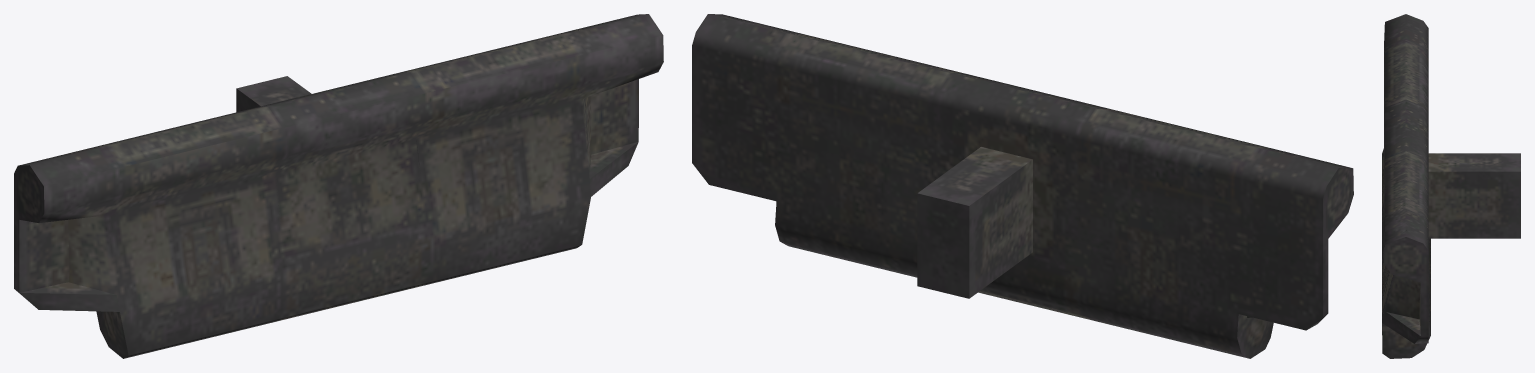
3 views of the same model, side by side, from view 1: azimuth 30°, elevation 25°; view 2: azimuth 150°, elevation 25°; view 3: azimuth 270°, elevation 25° (orthographic). The views are drawn at different scales.
Visible parts, largest first — view 1: set_0_group_0; view 2: set_0_group_0; view 3: set_0_group_0.
Boxes of the visible parts, x1,y1,x2,y2 form: set_0_group_0: (14, 14, 663, 358); set_0_group_0: (692, 14, 1353, 358); set_0_group_0: (1382, 14, 1520, 358).
Size of the model in its own units: 0.6054 by 0.1926 by 0.1594.
1 material, 1 textured.
